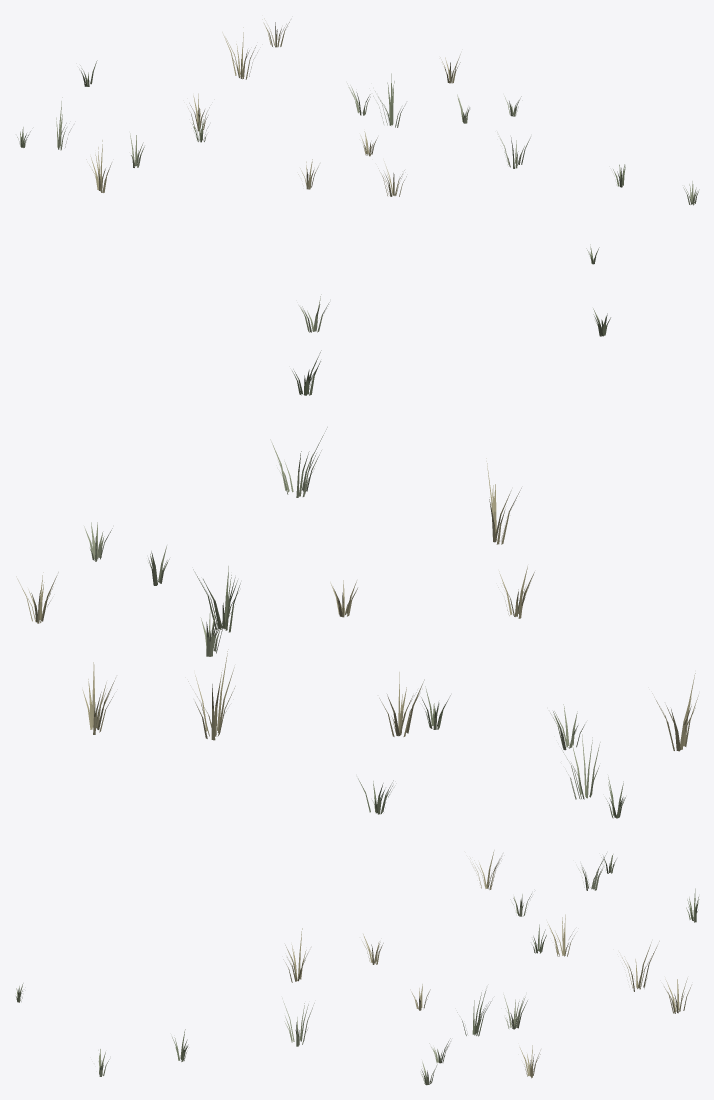
Rendered from AE_Grass_-1_-3.fbx.
3 renders of one model, top to bottom at view 1: azimuth 30°, elevation 25°; view 2: azimuth 150°, elevation 25°; view 3: azimuth 270°, elevation 25°, orthographic. The views are drawn at different scales.
Parts seen in each view (by area): view 1: AE_Grass_-1_-3_LOD0; view 2: AE_Grass_-1_-3_LOD0; view 3: AE_Grass_-1_-3_LOD0.
Part boxes in pixels (x1,y1,x2,y2): AE_Grass_-1_-3_LOD0: (17,18,699,264); AE_Grass_-1_-3_LOD0: (16,294,698,818); AE_Grass_-1_-3_LOD0: (16,850,699,1085).
Size of what is drawn, in the model's own units: 1020 by 123 by 1306.
